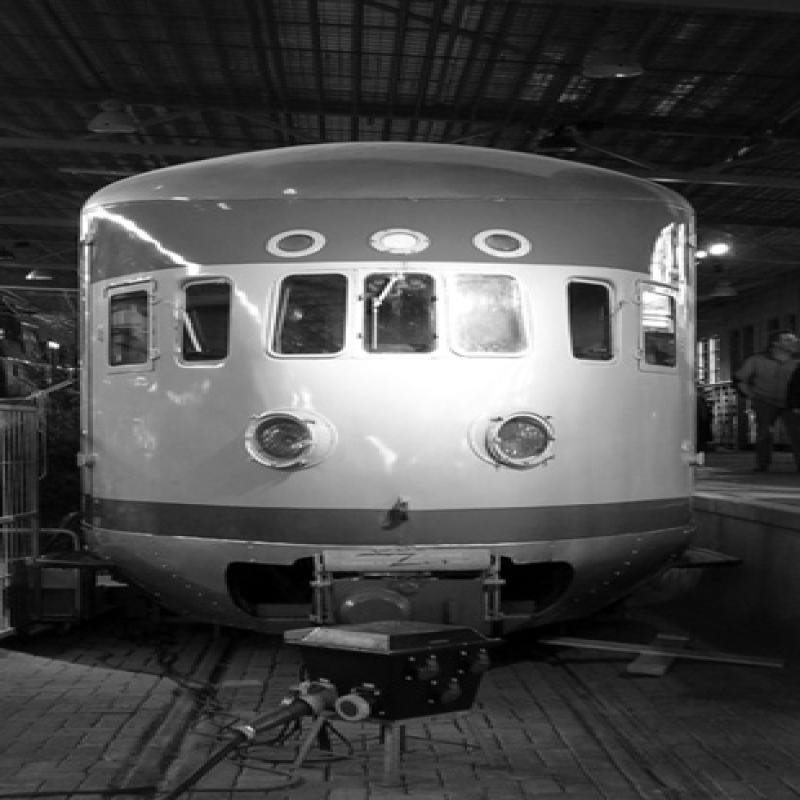train: (73, 139, 703, 643)
